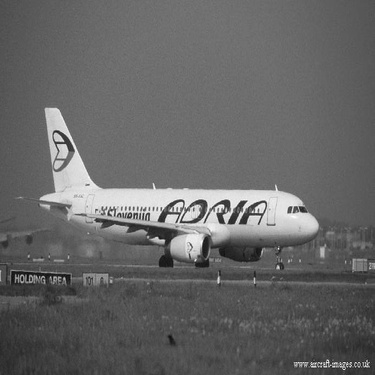airplane: (16, 93, 329, 276)
